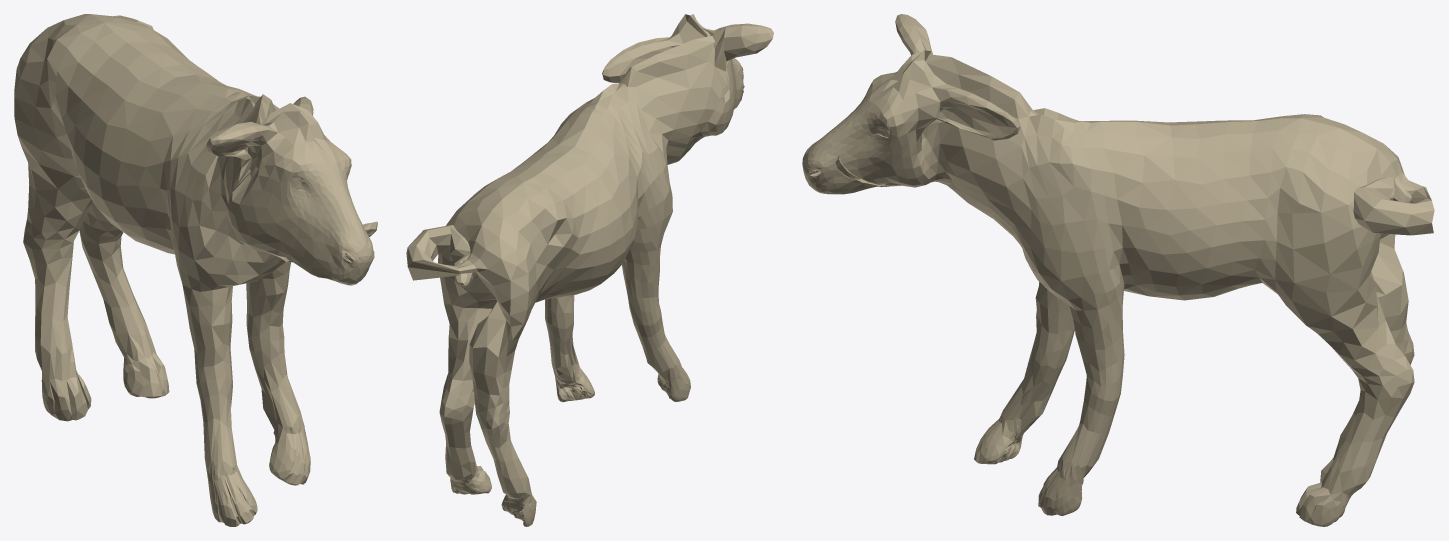
The picture shows the model from 3 angles, left to right: view 1: azimuth 30°, elevation 25°; view 2: azimuth 150°, elevation 25°; view 3: azimuth 270°, elevation 25°; orthographic projection. The views are drawn at different scales.
Parts seen in each view (by area): view 1: world; view 2: world; view 3: world.
Boxes of the visible parts, x1,y1,x2,y2 form: world: (14, 14, 377, 526); world: (406, 14, 773, 526); world: (802, 14, 1434, 526).
Bounding box in the file's own units: 0.5953 × 1.38 × 1.75.
